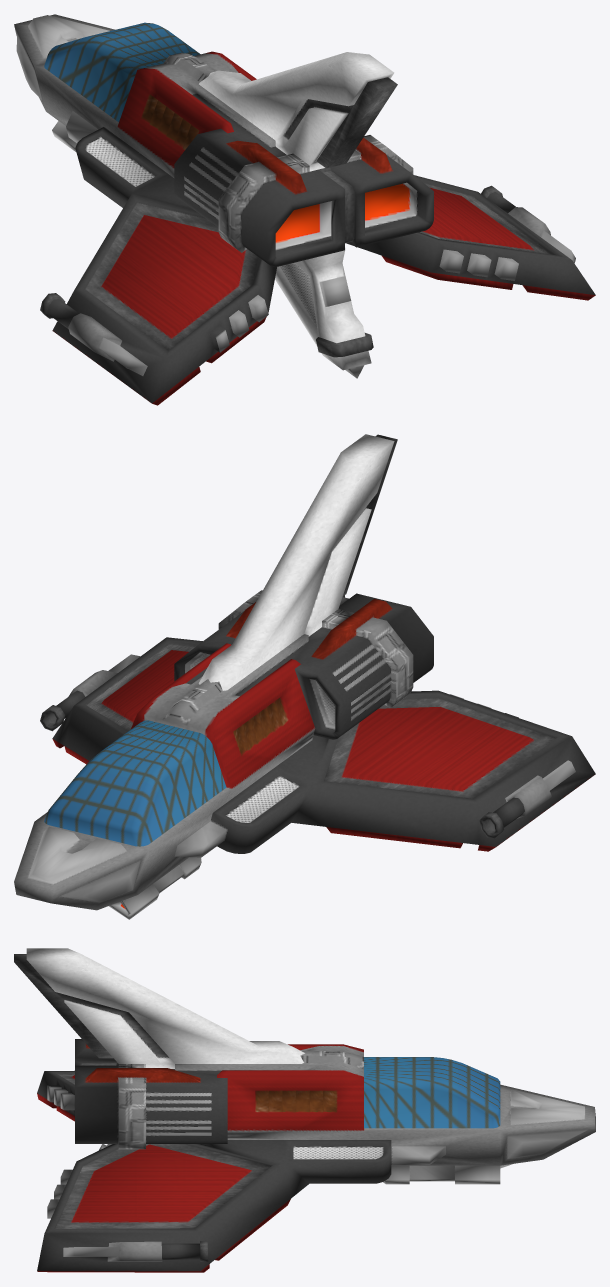
Rendered from fighter01.fbx.
3 renders of one model, top to bottom at view 1: azimuth 30°, elevation 25°; view 2: azimuth 150°, elevation 25°; view 3: azimuth 270°, elevation 25°, orthographic. The views are drawn at different scales.
Parts seen in each view (by area): view 1: mesh; view 2: mesh; view 3: mesh.
Part boxes in pixels (x1,y1,x2,y2): mesh: (14,14,595,405); mesh: (14,434,595,919); mesh: (14,948,595,1272).
Bounding box in the file's own units: 400 × 265 × 534.
Materials: 1 (1 with a texture image).
